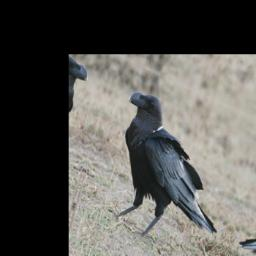Crow: (93, 85, 244, 256)
